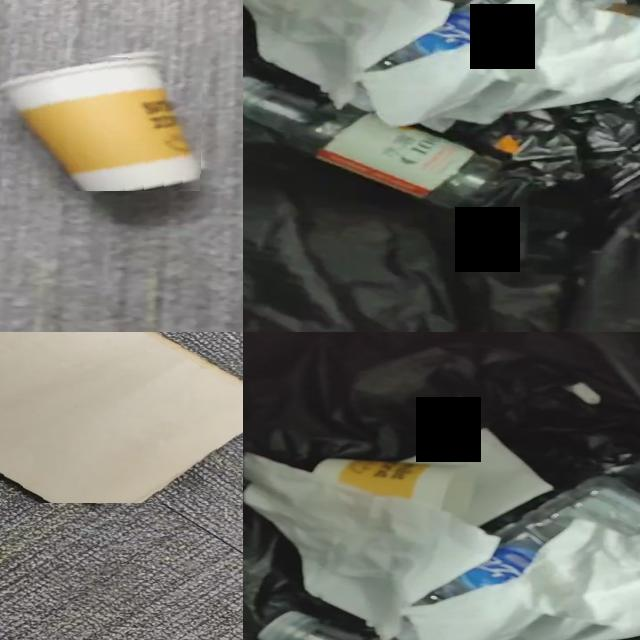bottle: (243, 78, 501, 206), (429, 479, 640, 600), (381, 0, 511, 68)
carton: (0, 332, 243, 503)
dixie_cup: (2, 58, 202, 191), (312, 460, 473, 520)
paper: (243, 0, 640, 130), (243, 454, 505, 640), (406, 520, 640, 640), (404, 429, 555, 526)
